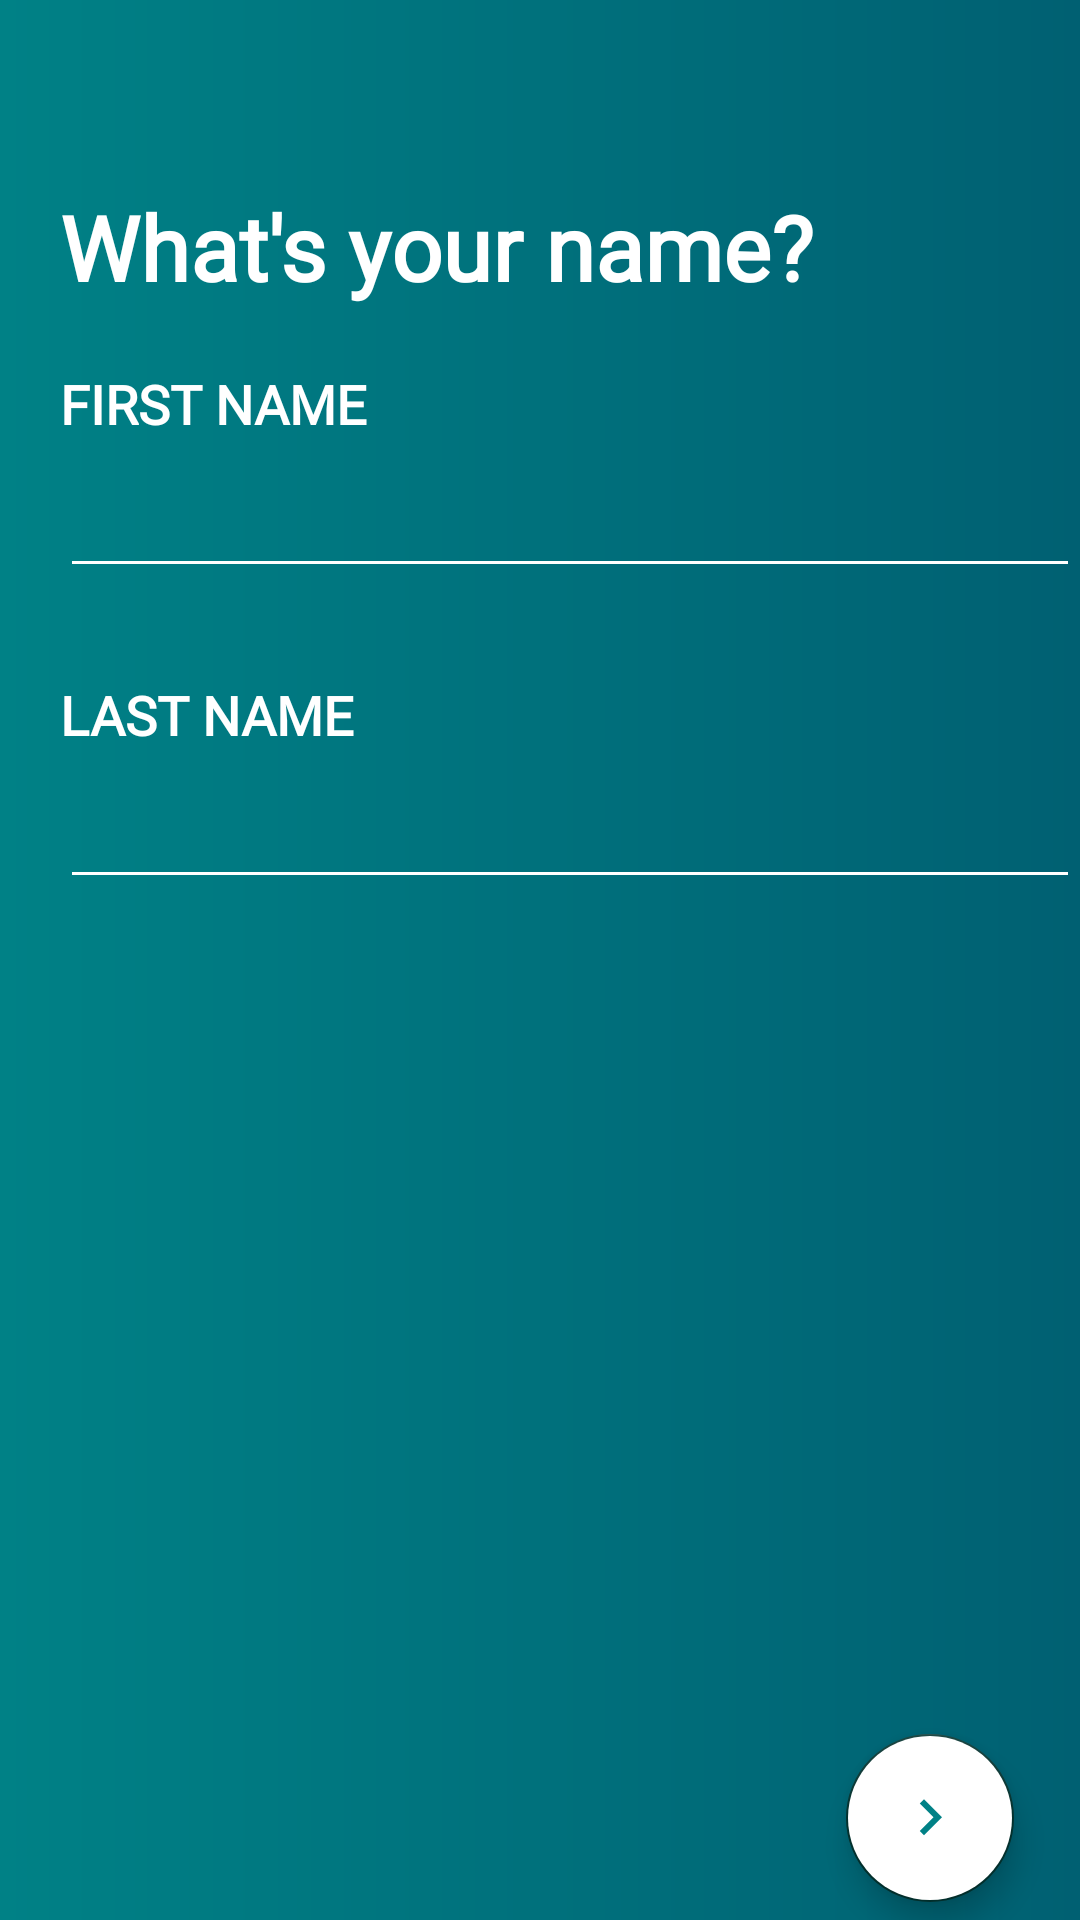

Where to tap for icons on this 1080 x 1920 app screen, as [x,y]:
right arrow: [930,1818]
